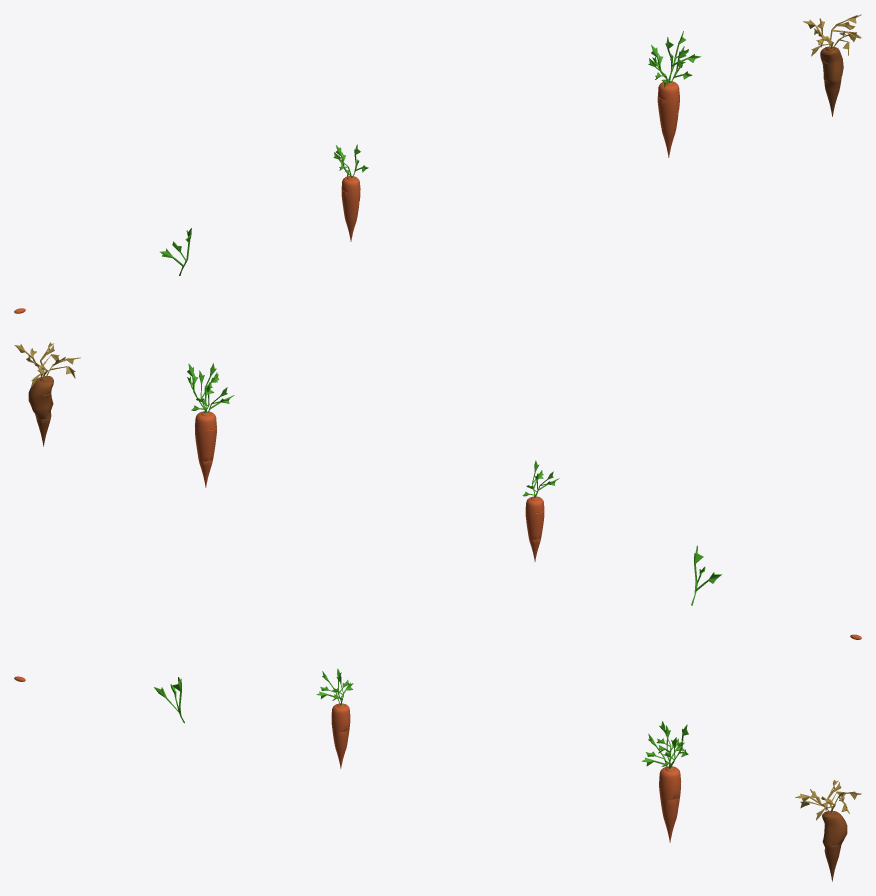
Rendered from Cenoura.fbx.
The picture shows the model from 3 angles, top to bottom: view 1: azimuth 30°, elevation 25°; view 2: azimuth 150°, elevation 25°; view 3: azimuth 330°, elevation 25°; orthographic projection.
Parts seen in each view (by area): view 1: CenouraGrande, CenouraGrandeMorrendo, CenouraMedia; view 2: CenouraGrande, CenouraGrandeMorrendo, CenouraMedia; view 3: CenouraGrande, CenouraGrandeMorrendo, CenouraMedia.
Boxes of the visible parts, bbox=[...] form: CenouraGrande: bbox=[648, 31, 701, 157]; CenouraGrandeMorrendo: bbox=[803, 14, 861, 116]; CenouraMedia: bbox=[333, 144, 368, 241]; CenouraGrande: bbox=[187, 363, 234, 487]; CenouraGrandeMorrendo: bbox=[14, 342, 80, 446]; CenouraMedia: bbox=[522, 460, 559, 561]; CenouraGrande: bbox=[642, 721, 688, 842]; CenouraGrandeMorrendo: bbox=[795, 780, 861, 881]; CenouraMedia: bbox=[316, 668, 353, 768].
Bounding box in the file's own units: 157 × 22 × 11.04.
